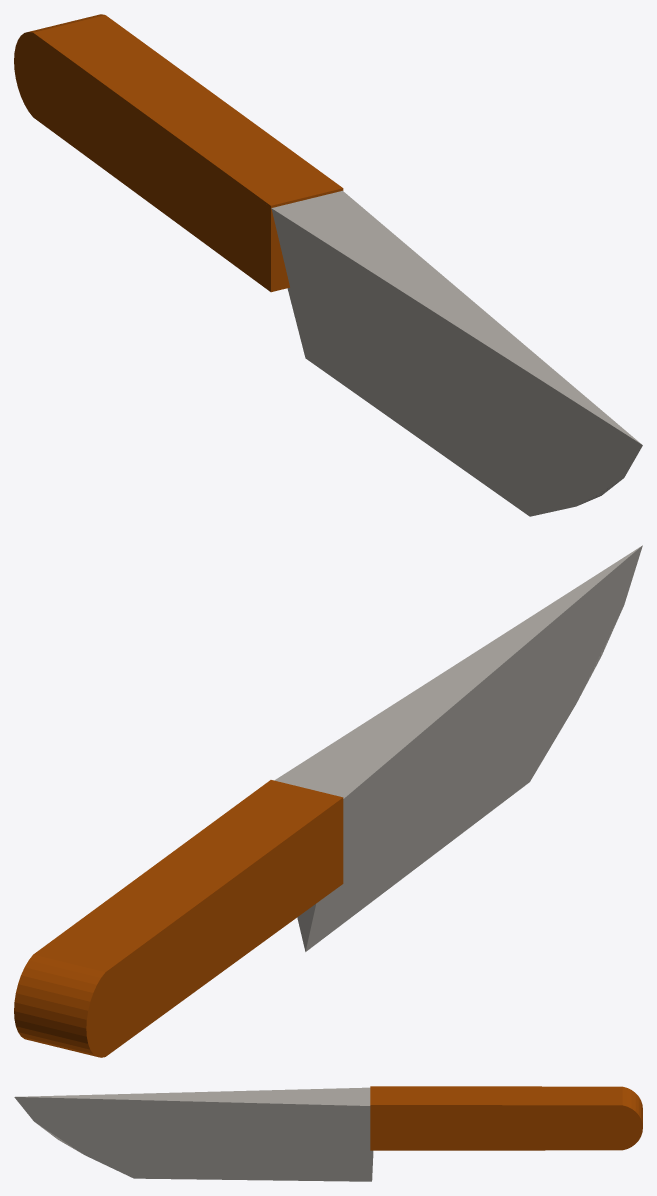
The model's file is knife.glb.
3 renders of one model, top to bottom at view 1: azimuth 30°, elevation 25°; view 2: azimuth 150°, elevation 25°; view 3: azimuth 270°, elevation 25°, orthographic. The views are drawn at different scales.
Visible parts, largest first — view 1: Cube; view 2: Cube; view 3: Cube.
Part boxes in pixels (box(x1,y1,x2,y2)): Cube: box(14, 14, 642, 516); Cube: box(14, 545, 642, 1057); Cube: box(14, 1086, 642, 1181).
Size of the model in its own units: 0.4548 by 0.9752 by 6.45.
